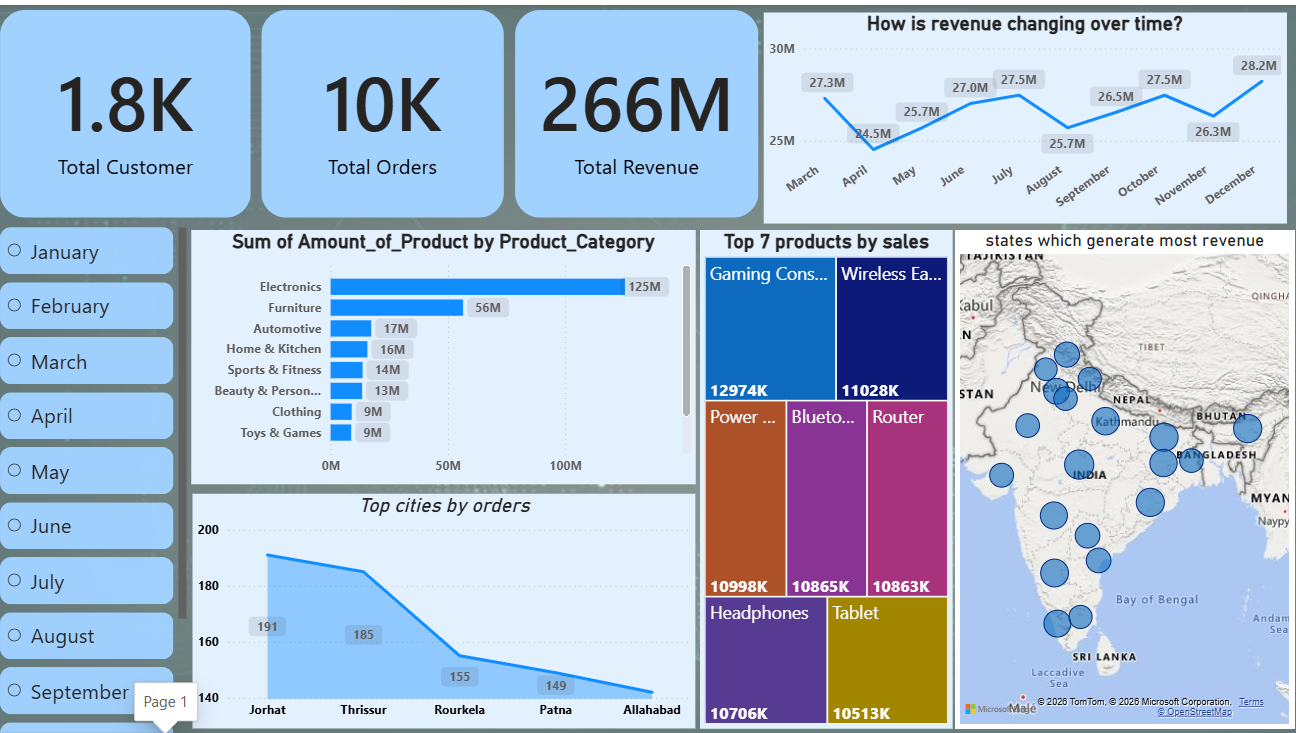

The dashboard page shown, as its layout file describes it:
{"tool":"powerbi","page":{"name":"Page 1","canvas":[1280,720],"ordinal":0},"visuals":[{"type":"lineChart","title":"How is revenue changing over time?","fields":{"Category":["cus_segment.Order_Date.Variation.Date Hierarchy.Month"],"Y":["Sum(cus_segment.Amount_of_Product)"]},"box":[754.7,6.9,513.2,207.2],"z":0},{"type":"clusteredBarChart","fields":{"Category":["cus_segment.Product_Category"],"Y":["Sum(cus_segment.Amount_of_Product)"]},"box":[192.1,220.9,495.4,249.7],"z":1000},{"type":"treemap","title":"Top 7 products by sales","fields":{"Group":["cus_segment.Product_Name"],"Values":["Sum(cus_segment.Amount_of_Product)"]},"box":[691.6,220.9,248.4,489.9],"z":2000},{"type":"map","title":"states which generate most revenue","fields":{"Category":["cus_segment.State"],"Size":["Sum(cus_segment.Amount_of_Product)"]},"box":[942.7,220.9,333.4,489.9],"z":3000},{"type":"stackedAreaChart","title":"Top cities by orders","fields":{"Category":["cus_segment.City"],"Y":["cus_segment.count_order"]},"box":[193.5,480.3,494,230.5],"z":4000},{"type":"cardVisual","fields":{"Data":["cus_segment.Total Orders"]},"box":[256.6,0,248.4,214.1],"z":5000},{"type":"cardVisual","fields":{"Data":["cus_segment.Total Revenue"]},"box":[505,0,249.7,214.1],"z":6000},{"type":"cardVisual","fields":{"Data":["Count(cus_segment.Customer_ID)"]},"box":[0,0,256.6,214.1],"z":7000},{"type":"listSlicer","fields":{"Values":["cus_segment.Order_Date.Variation.Date Hierarchy.Month"]},"box":[0,214.1,193.5,506.3],"z":9000}]}

Visuals, with their boxes in screenshot pixels (x1, y1, x2, y2), scaled from the page's 1280x720 canvas onto the 1296x733 screenshot:
"How is revenue changing over time?" lineChart: 764, 7, 1284, 218
clusteredBarChart - cus_segment.Product_Category x Sum(cus_segment.Amount_of_Product): 195, 225, 696, 479
"Top 7 products by sales" treemap: 700, 225, 952, 724
"states which generate most revenue" map: 954, 225, 1292, 724
"Top cities by orders" stackedAreaChart: 196, 489, 696, 724
cardVisual - cus_segment.Total Orders: 260, 0, 511, 218
cardVisual - cus_segment.Total Revenue: 511, 0, 764, 218
cardVisual - Count(cus_segment.Customer_ID): 0, 0, 260, 218
listSlicer - cus_segment.Order_Date.Variation.Date Hierarchy.Month: 0, 218, 196, 732
